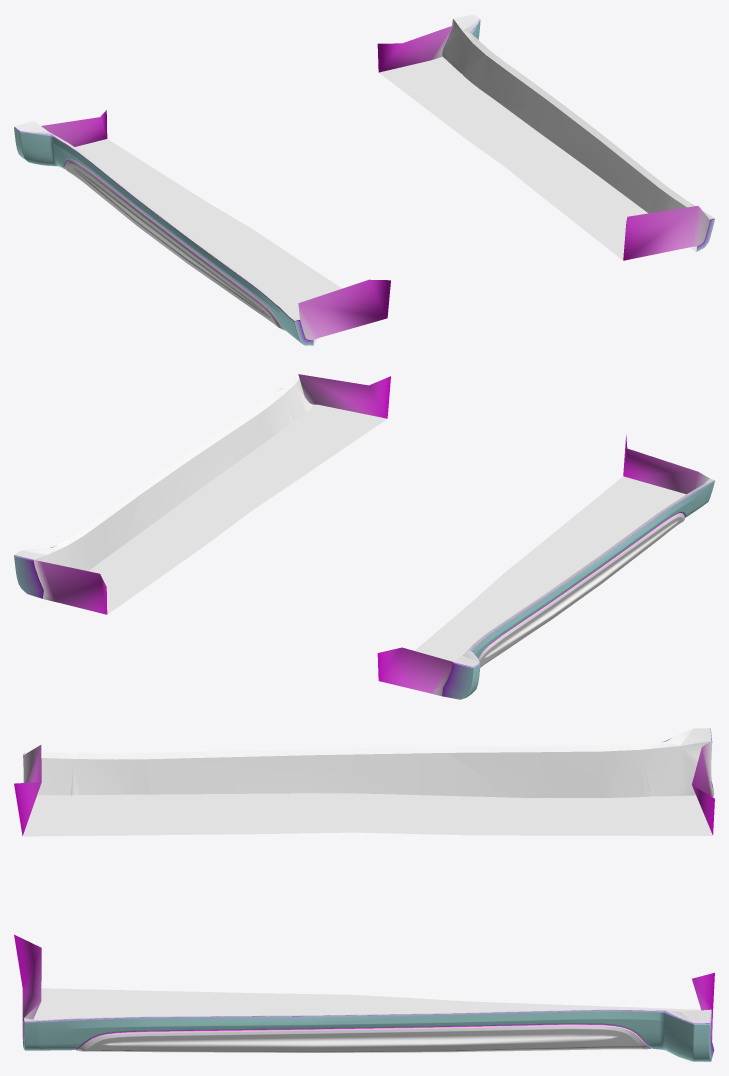
File: Car_Mini_CountrymanJCW_2017_Skirts_SetA_AltA.fbx
3 views of the same model, one above another, from view 1: azimuth 30°, elevation 25°; view 2: azimuth 150°, elevation 25°; view 3: azimuth 270°, elevation 25° (orthographic). The views are drawn at different scales.
Visible parts, largest first — view 1: Skirts 6; view 2: Skirts 6; view 3: Skirts 6.
Boxes of the visible parts, x1=… form: Skirts 6: x1=14, y1=14, x2=714, y2=345; Skirts 6: x1=14, y1=374, x2=714, y2=699; Skirts 6: x1=14, y1=728, x2=714, y2=1061.
Size of the model in its own units: 1.89 by 0.1973 by 1.9.
